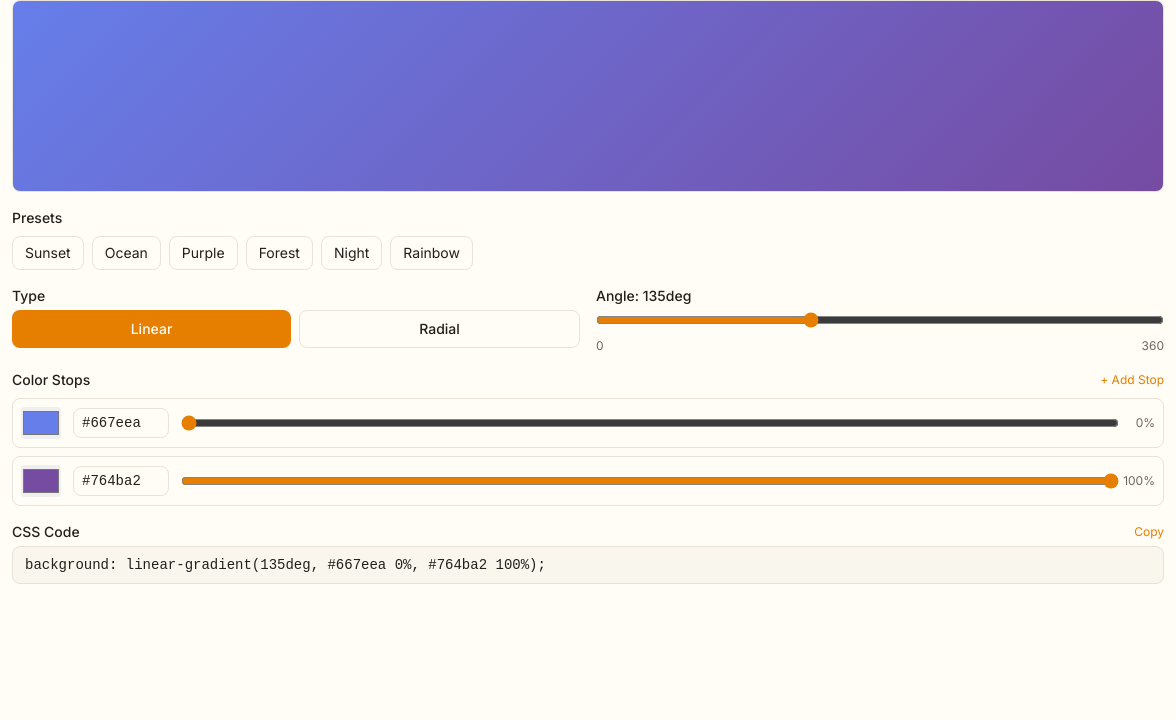
it: GradientGenerator › hides angle slider when Radial type is selected
This screenshot has width=1176, height=720.
What coordinates should you click on to do the following:
click the button "Radial"
I would click on:
 (440, 329)
Its box is [299, 310, 580, 348].
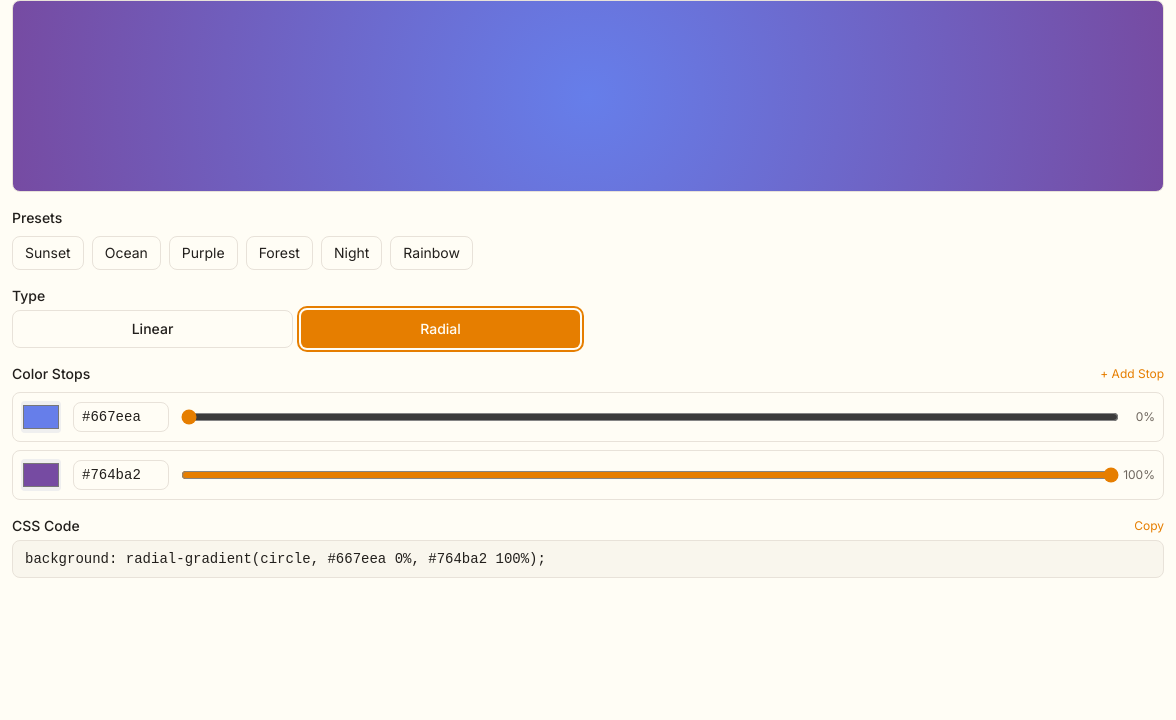
Result: the text "Angle:" is gone
